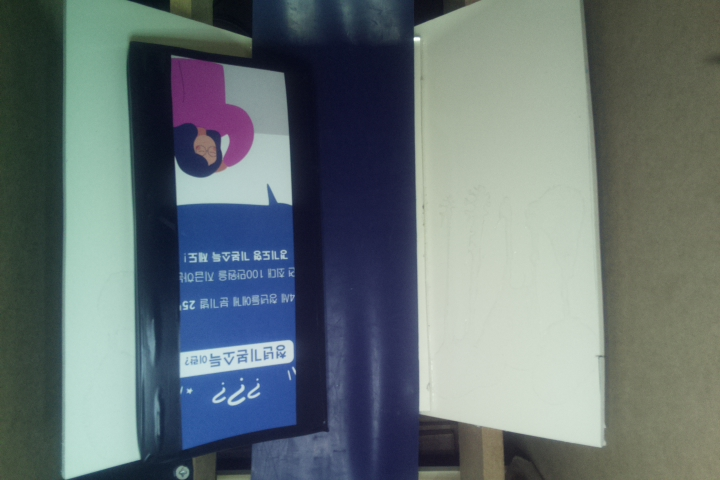book: (129, 49, 326, 467)
